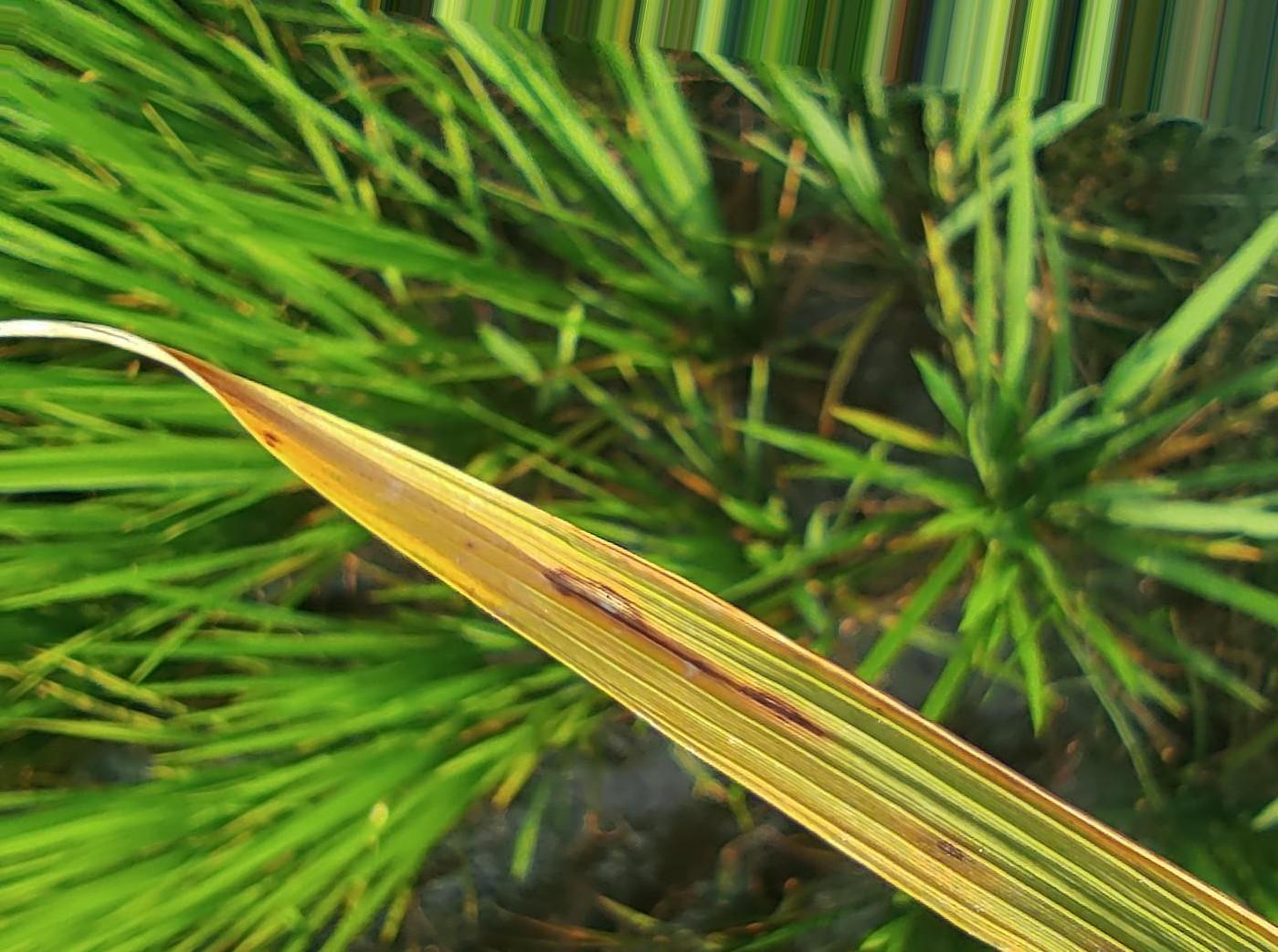LEAF: (0, 320, 1277, 949)
LEAF BLAST: (543, 566, 825, 739), (937, 841, 964, 863)
